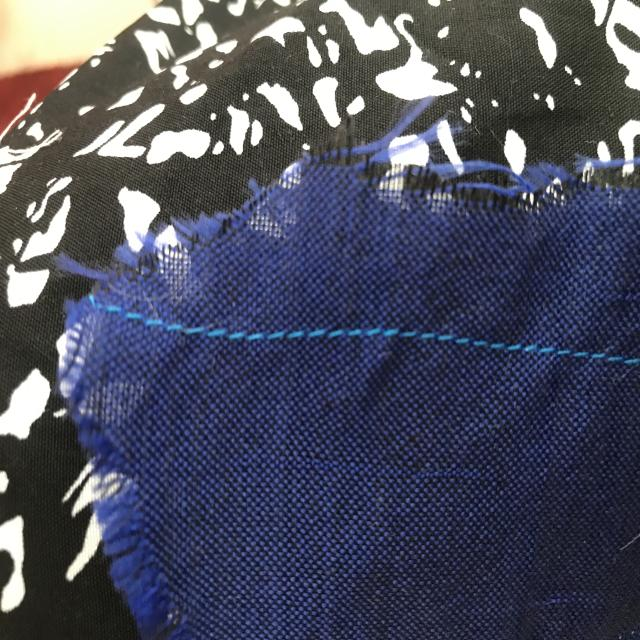good: (512, 339, 609, 372)
